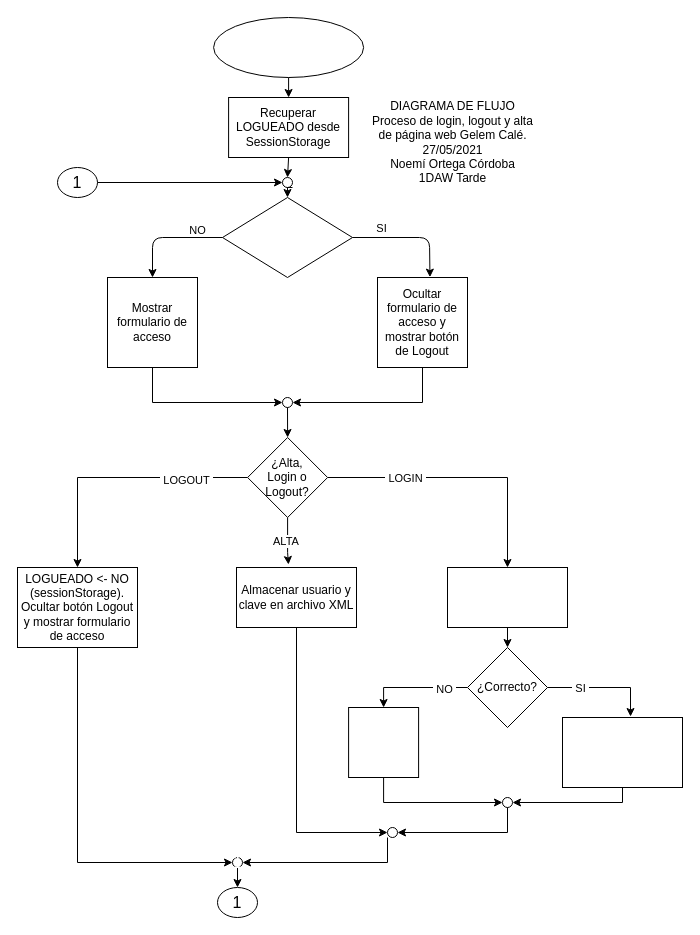
Some shapes in this 700 by 935 pixel diagram are drawn without their labels. The shapes that lost their labels are listed below. From the top down, each one's box as (x1, y1, x2, y2) in pixels, then its label:
(213, 16, 364, 78): Cargar index.html
(222, 196, 352, 278): ¿El usuario ya está logueado?
(446, 566, 568, 628): Pedir usr + clave y validar
(348, 706, 419, 778): Mensaje de error
(562, 716, 682, 788): LOGUEADO <- SI (sessionStorage)
